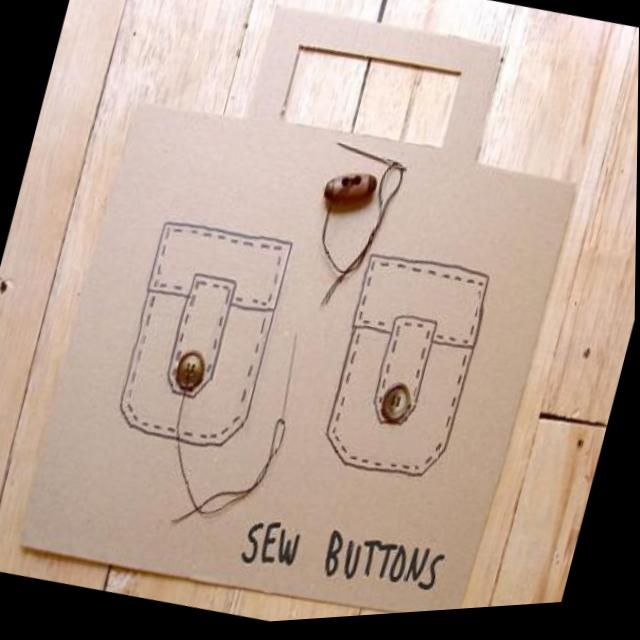box: (13, 0, 615, 639)
